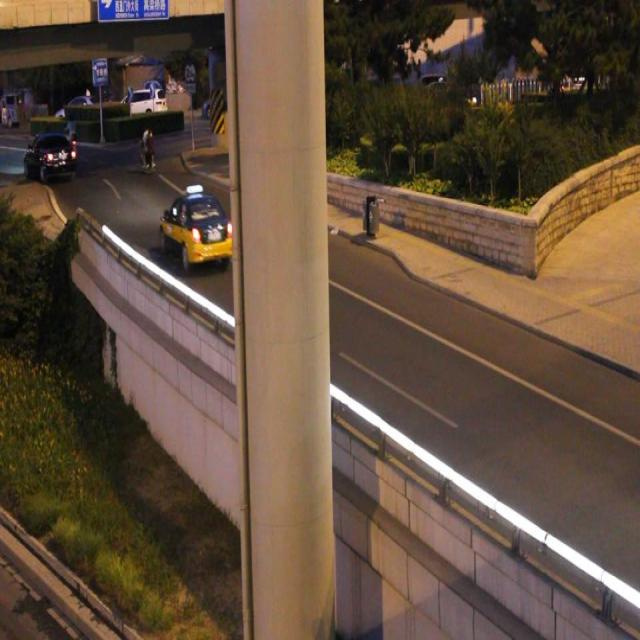car: (161, 194, 235, 263), (26, 132, 76, 176)
